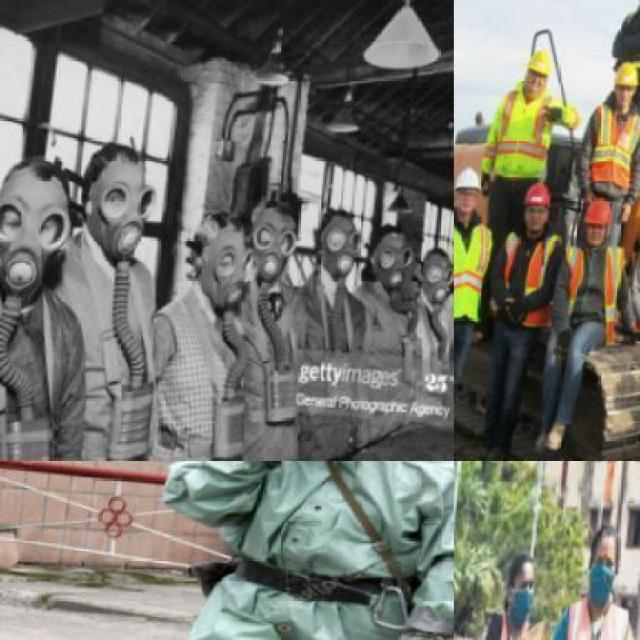Vest: (180, 460, 452, 638), (558, 240, 631, 340), (500, 226, 569, 329), (498, 92, 558, 183), (454, 216, 501, 322), (586, 108, 639, 190), (548, 594, 635, 638)
